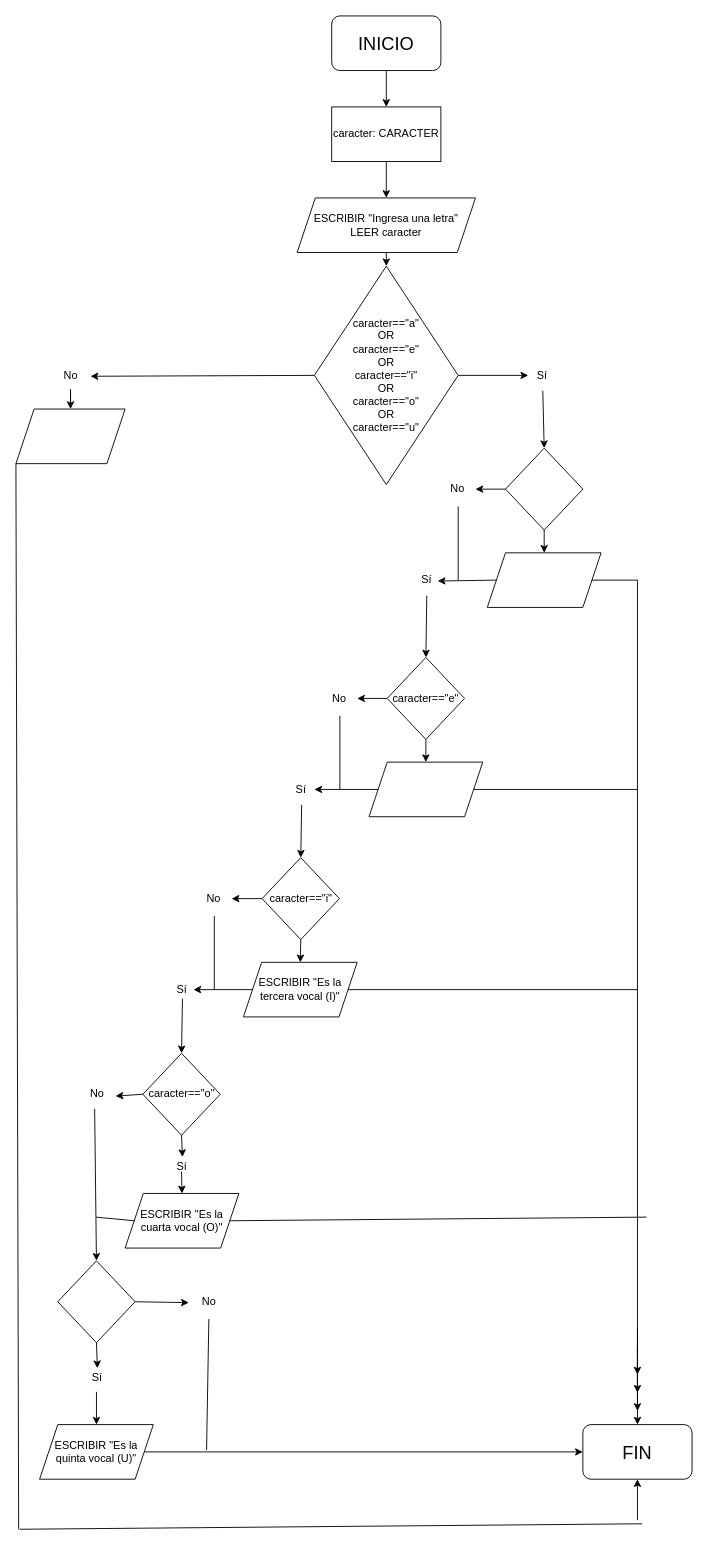
The diagram is 708 pixels wide and 1546 high, and some of its shapes have lost their labels. The centre of each missing label's shape, as x and y in pixels:
caracter=="a": (544,488)
caracter=="u": (96,1301)
ESCRIBIR "Es la primera vocal (A)": (543,579)
ESCRIBIR "Es la segunda vocal (E)": (425,789)
ESCRIBIR "Es una consonante": (70,436)
